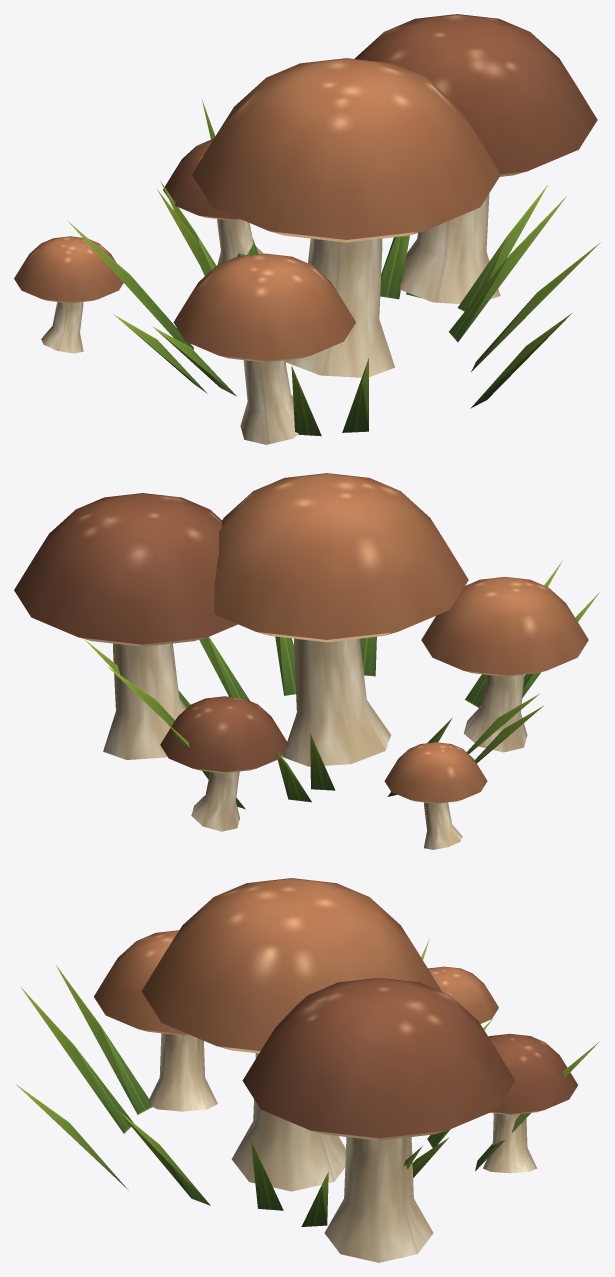
File: champignons_2.glb
3 views of the same model, one above another, from view 1: azimuth 30°, elevation 25°; view 2: azimuth 150°, elevation 25°; view 3: azimuth 270°, elevation 25° (orthographic). The views are drawn at different scales.
Visible parts, largest first — view 1: champignons_2; view 2: champignons_2; view 3: champignons_2.
Part boxes in pixels (<box>): champignons_2: <box>14,14,600,444</box>; champignons_2: <box>14,473,599,849</box>; champignons_2: <box>16,878,599,1262</box>.
Bounding box in the file's own units: 0.5377 × 0.2767 × 0.5376.
Materials: 5 (5 with a texture image).
